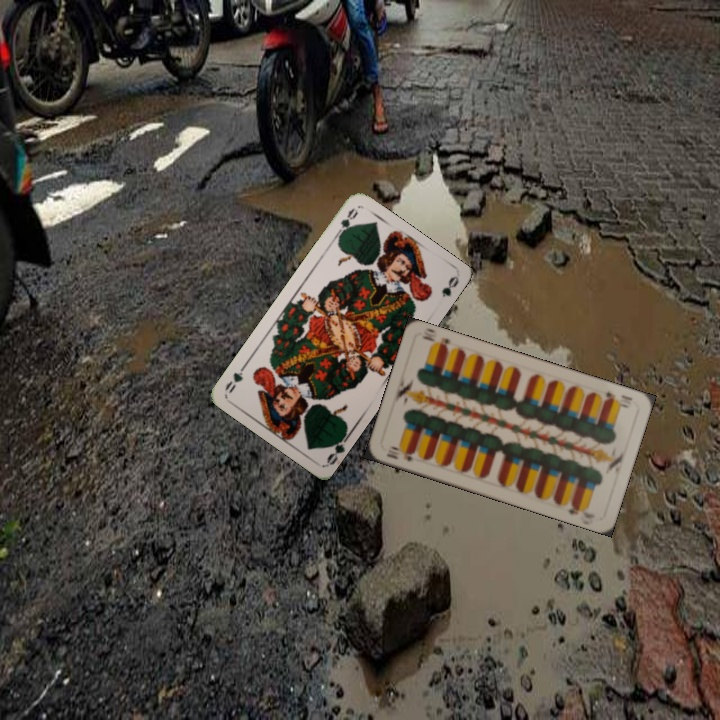E10: (601, 388, 635, 411), (382, 442, 417, 464)
GO: (331, 203, 361, 242), (323, 429, 352, 467)
